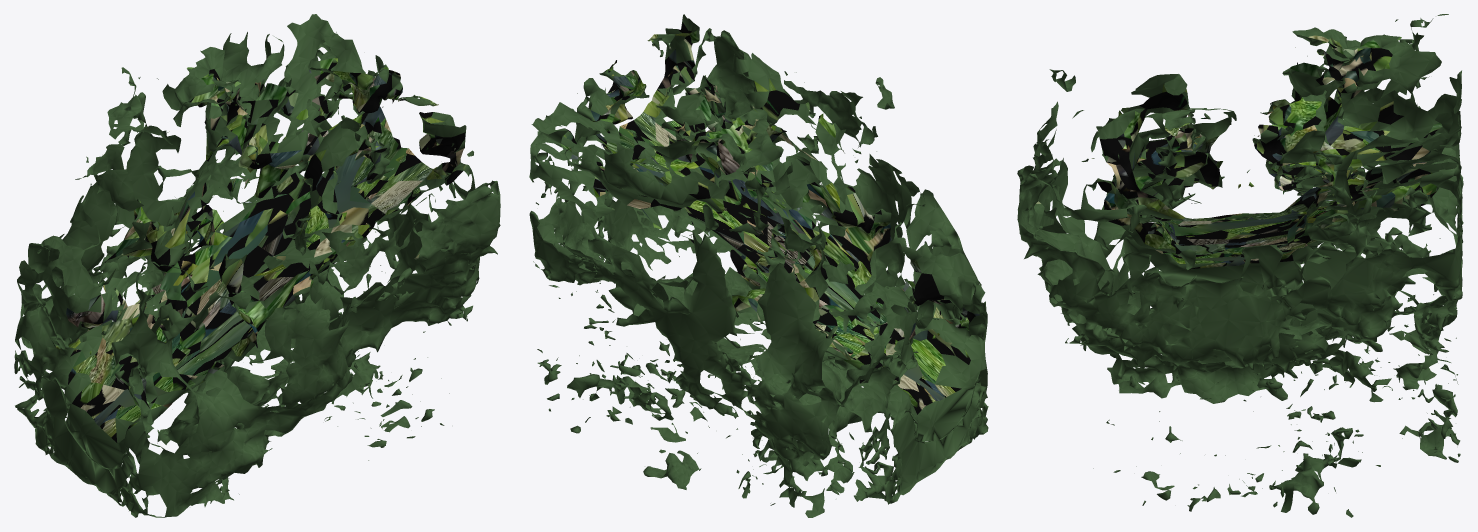
The model's file is fuenteCatedral_lowpoly.obj.
The picture shows the model from 3 angles, left to right: view 1: azimuth 30°, elevation 25°; view 2: azimuth 150°, elevation 25°; view 3: azimuth 270°, elevation 25°; orthographic projection. The views are drawn at different scales.
Size of the model in its own units: 4.07 by 4.05 by 4.06.
